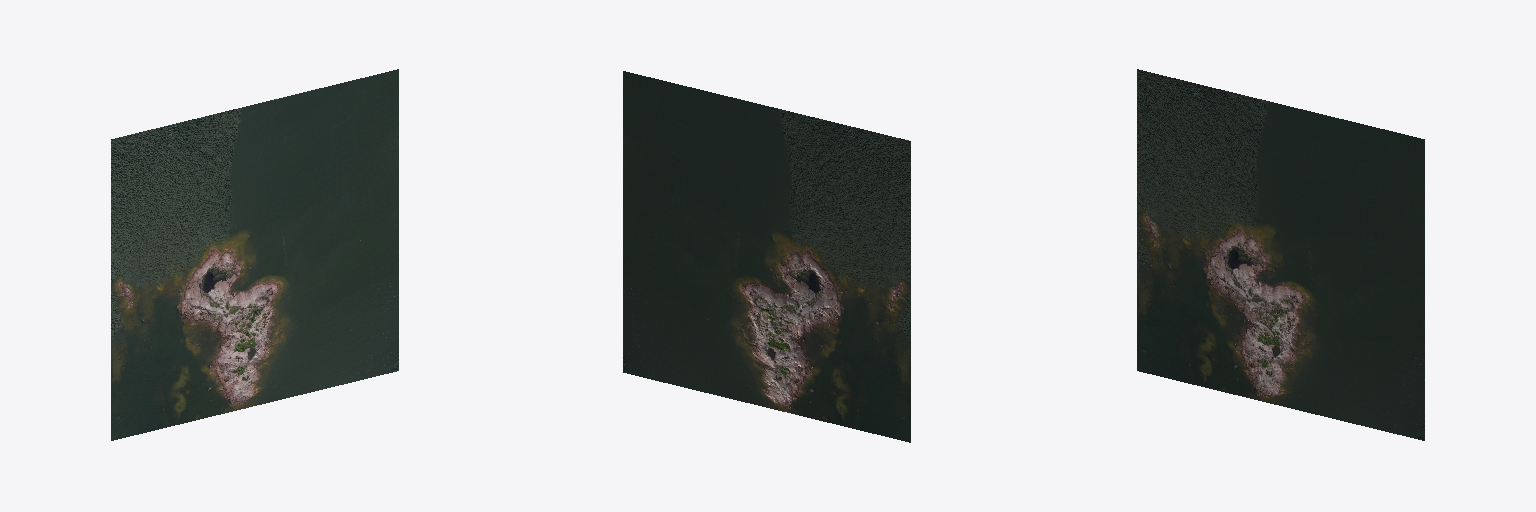
3 views of the same model, side by side, from view 1: azimuth 30°, elevation 25°; view 2: azimuth 150°, elevation 25°; view 3: azimuth 330°, elevation 25° (orthographic).
Size of the model in its own units: 252 by 252 by 3.96.
2 materials, 1 textured.